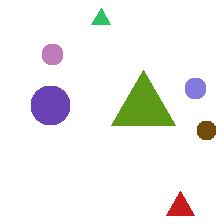circle: (31, 86, 69, 124), (42, 44, 62, 64), (185, 78, 205, 98), (197, 121, 215, 139)
triangle: (111, 70, 175, 125), (166, 191, 194, 215), (91, 8, 110, 24)
